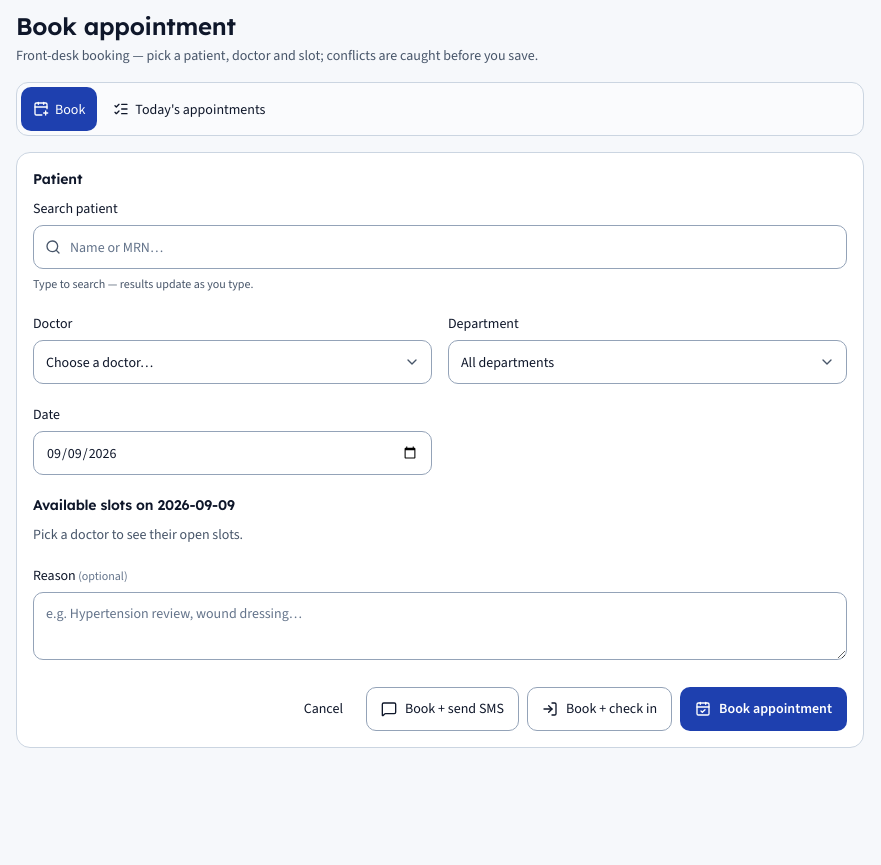
Test: AppointmentBookingPage polish (#15) › lists today's queue with status chips, filterable by doctor
Step 1. Click the tab "Today's appointments" → (189, 109), box [101,87,277,131]
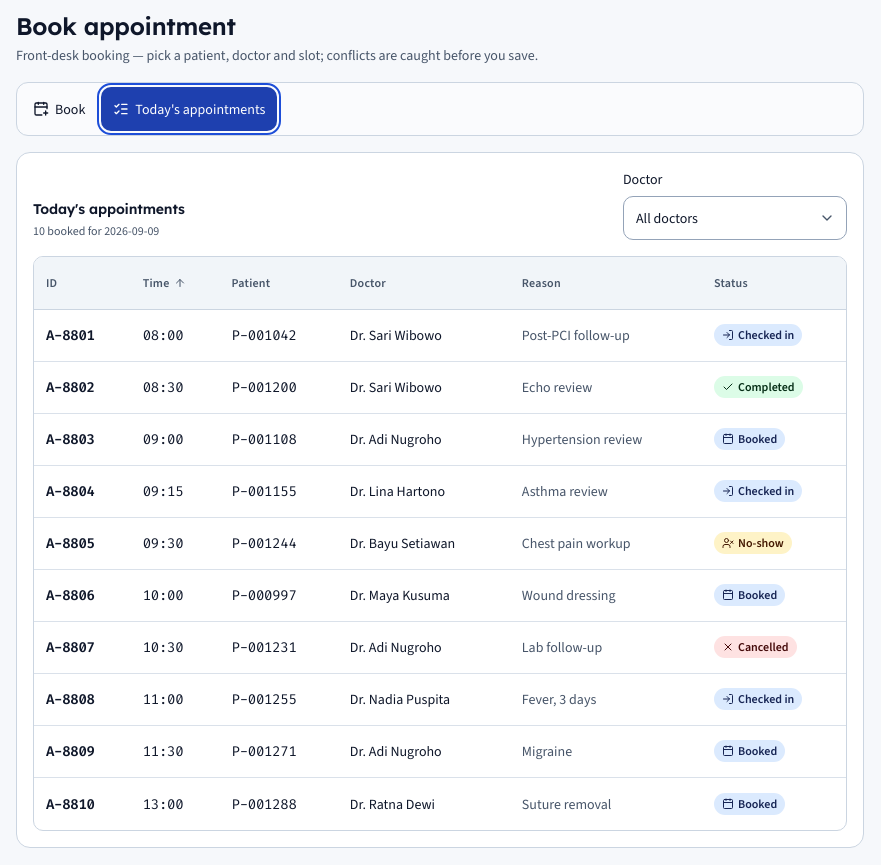
Expected: the text "A-8801" is shown, [46,326,95,345]
Expected: the text "Checked in" in the row of "A-8801" is shown, [738,327,794,343]
# Narrow to Dr. Sari Wibowo (D01) — only her appointments remain.
Step 2. Select "Dr. Sari Wibowo" in the dropdown labelled "Doctor" → (735, 218), box [623,196,847,240]
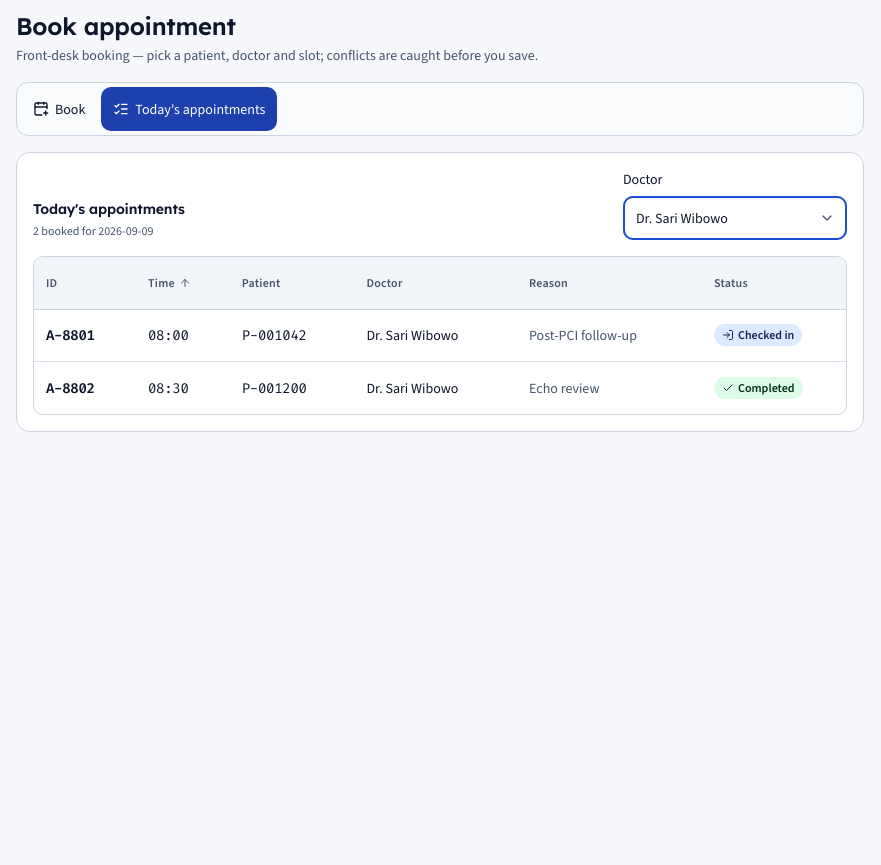
Expected: the text "A-8803" is gone
